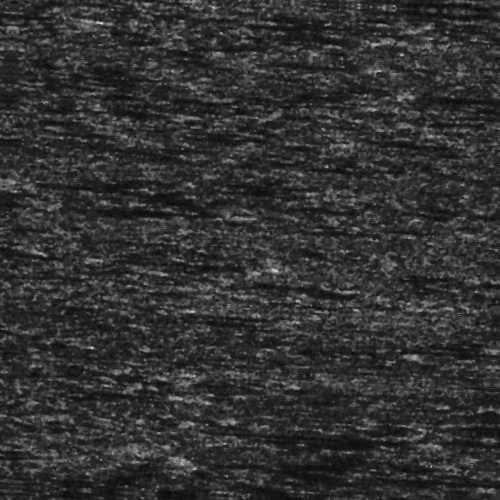object: (321, 28, 404, 37), (407, 427, 470, 436), (23, 23, 96, 30), (304, 279, 367, 286), (201, 211, 254, 218), (125, 496, 188, 500), (234, 264, 275, 269), (483, 335, 500, 344), (336, 59, 357, 62)
shadow: (250, 427, 438, 436), (185, 28, 362, 37), (85, 211, 228, 218), (314, 466, 500, 471), (242, 279, 335, 286), (428, 335, 500, 344), (396, 0, 500, 6), (0, 496, 156, 500), (160, 264, 254, 269), (407, 82, 500, 87), (0, 23, 60, 30), (257, 59, 346, 62)
